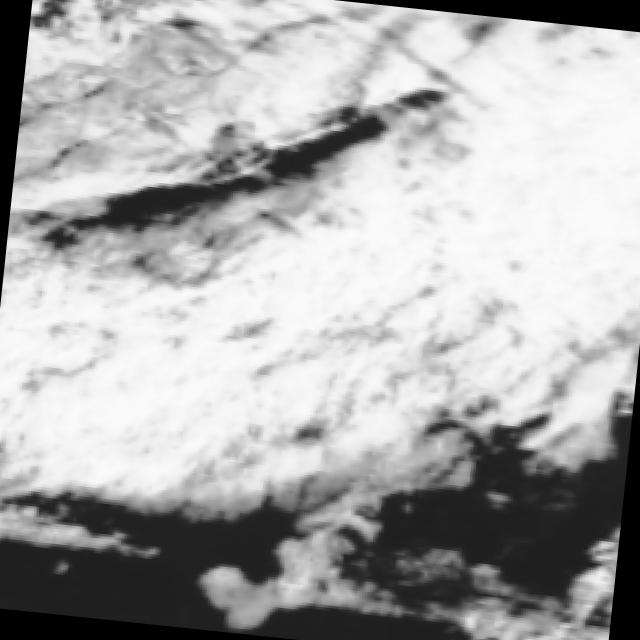CB: (483, 66, 640, 289)
